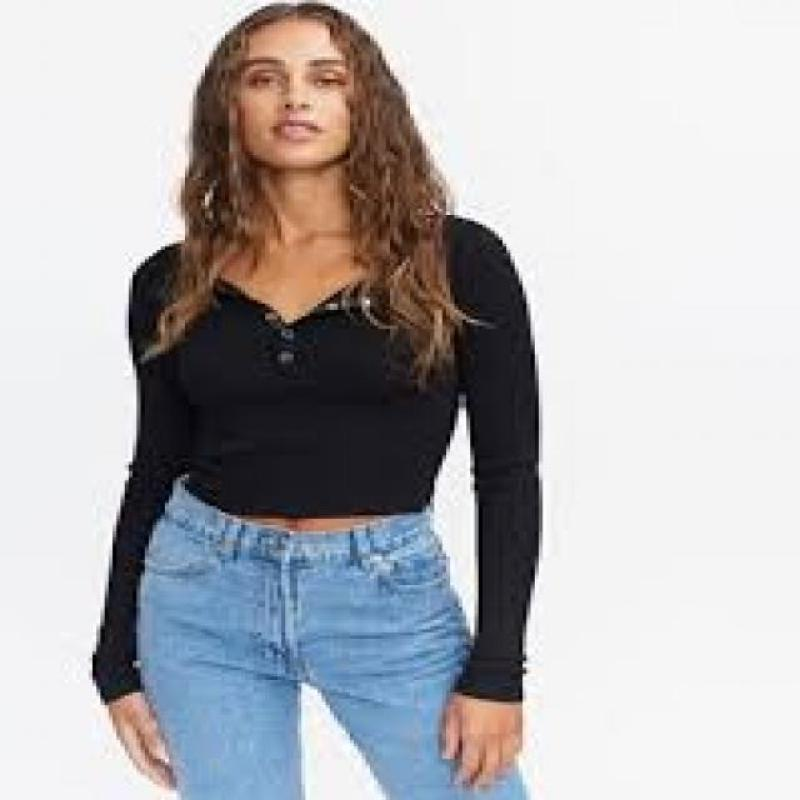long sleeve shirt: (89, 213, 547, 703)
trousers: (131, 474, 530, 800)
